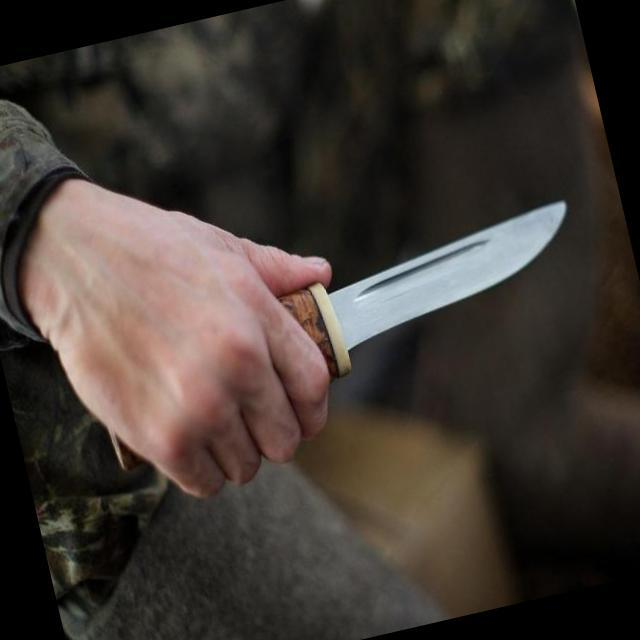Knife: (172, 157, 623, 492)
